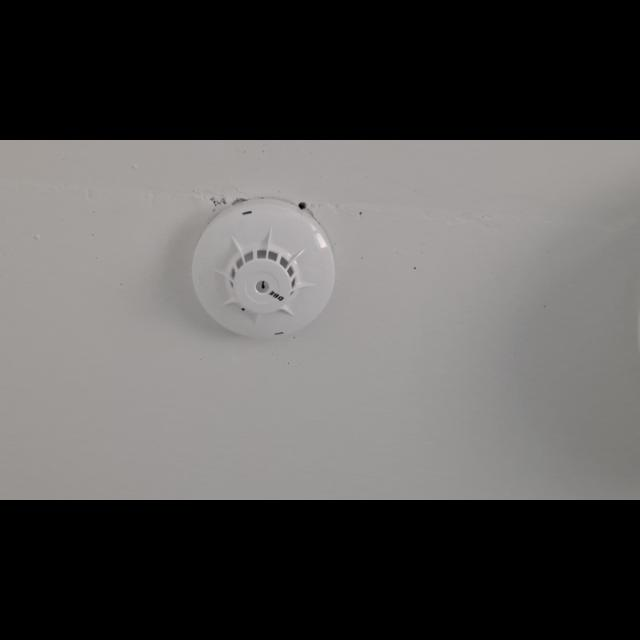Smoke-Detector: (191, 201, 337, 343)
